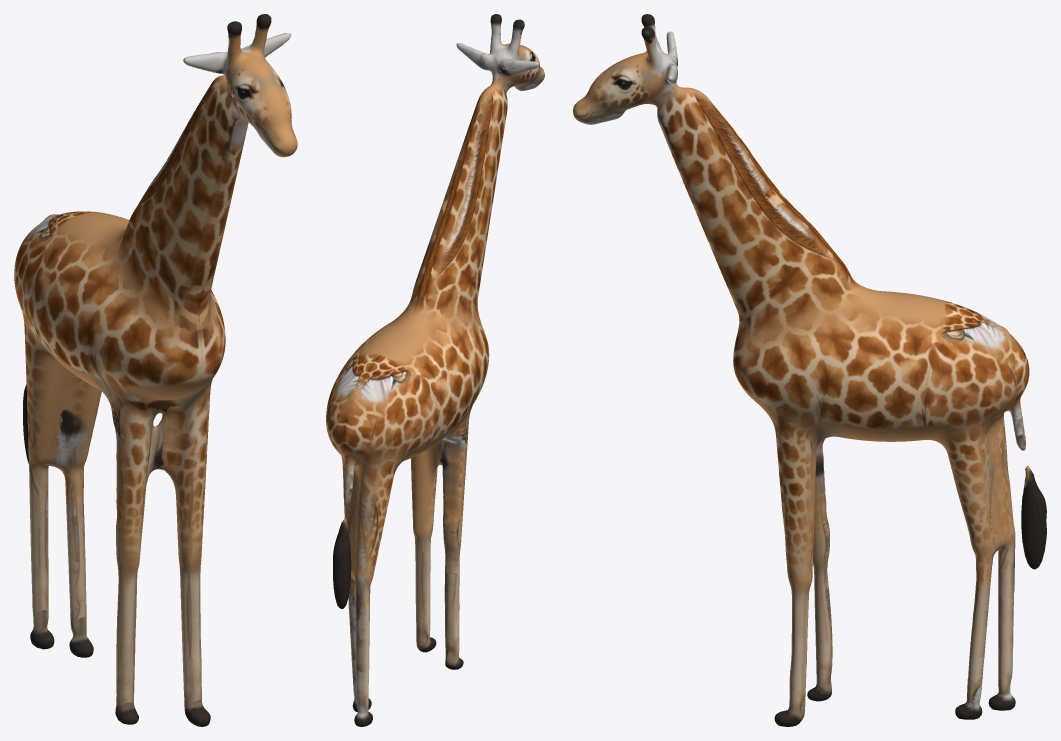
3 renders of one model, left to right at view 1: azimuth 30°, elevation 25°; view 2: azimuth 150°, elevation 25°; view 3: azimuth 270°, elevation 25°, orthographic. The views are drawn at different scales.
Visible parts, largest first — view 1: animal; view 2: animal; view 3: animal.
Part boxes in pixels (left/top/right/bottom): animal: left=14, top=14, right=297, bottom=726; animal: left=326, top=14, right=544, bottom=726; animal: left=573, top=14, right=1046, bottom=726.
Bounding box in the file's own units: 0.8993 × 4.98 × 3.1.
1 material, 1 textured.
